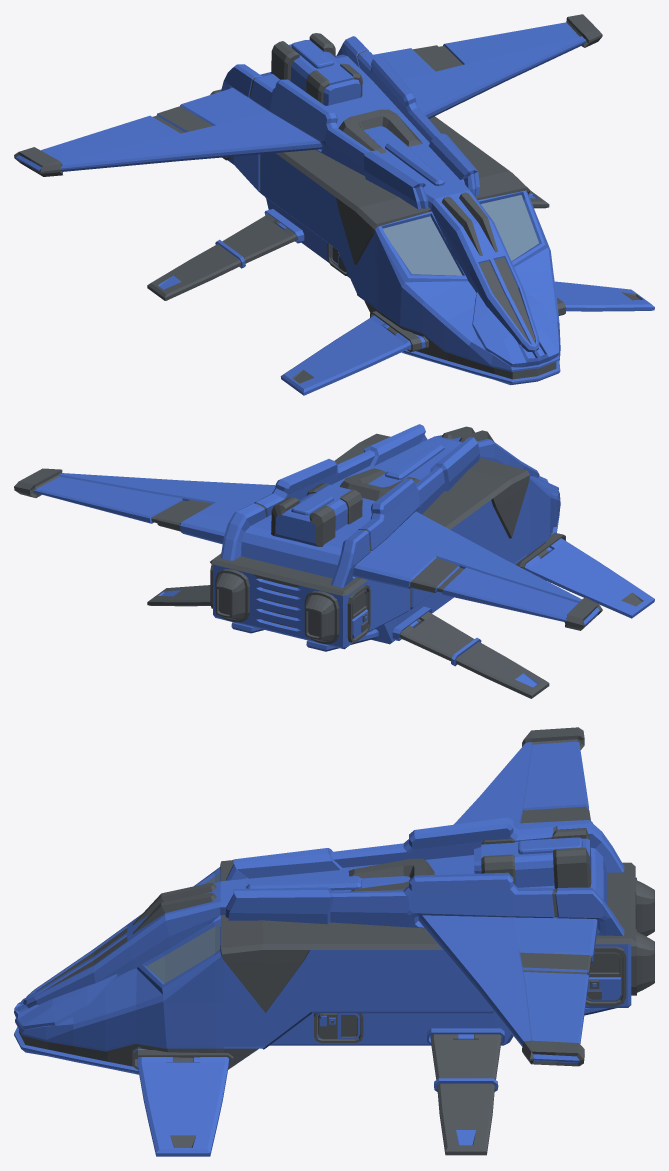
File: Fighter_04_Blue.fbx
The picture shows the model from 3 angles, top to bottom: view 1: azimuth 30°, elevation 25°; view 2: azimuth 150°, elevation 25°; view 3: azimuth 270°, elevation 25°; orthographic projection. The views are drawn at different scales.
Parts seen in each view (by area): view 1: Fighter_04_Blue; view 2: Fighter_04_Blue; view 3: Fighter_04_Blue.
Part boxes in pixels (box(x1,y1,x2,y2)): Fighter_04_Blue: box(14, 14, 654, 395); Fighter_04_Blue: box(14, 424, 654, 698); Fighter_04_Blue: box(14, 727, 654, 1156).
Bounding box in the file's own units: 1945 × 600 × 1602.
3 materials, 3 textured.
